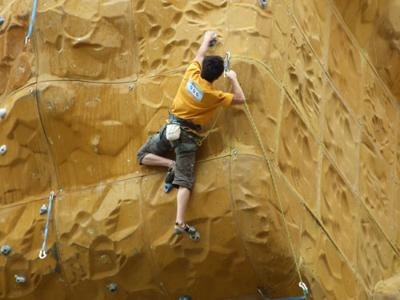person: (135, 30, 247, 236)
